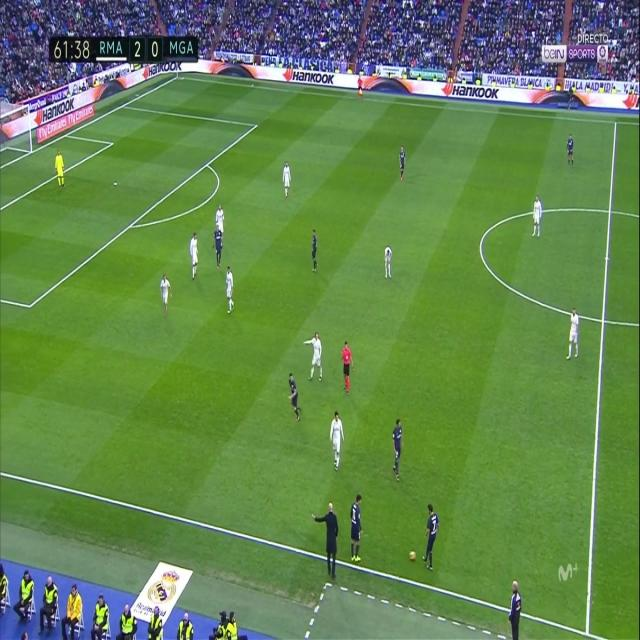Ball: (408, 546, 417, 564)
Goalkeeper: (54, 148, 67, 193)
Player: (421, 498, 440, 572), (303, 333, 326, 385), (348, 492, 364, 564), (283, 372, 306, 421), (328, 409, 344, 476), (390, 418, 405, 483), (566, 306, 581, 364), (157, 272, 175, 320), (223, 263, 237, 320), (188, 230, 202, 286), (530, 193, 545, 240), (212, 222, 223, 271), (381, 242, 394, 280), (280, 160, 292, 200), (311, 225, 319, 277), (398, 140, 408, 180), (565, 131, 575, 166), (215, 202, 225, 234)
Referee: (339, 337, 356, 398), (354, 74, 364, 100)
